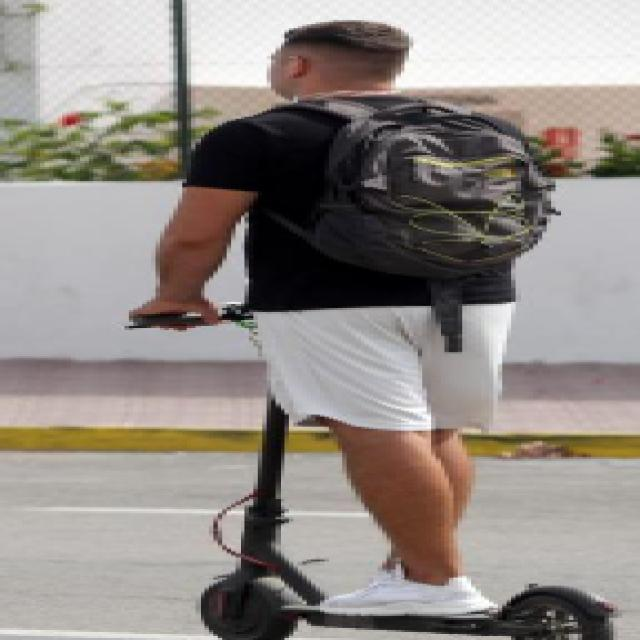non-helmet: (49, 2, 627, 640)
